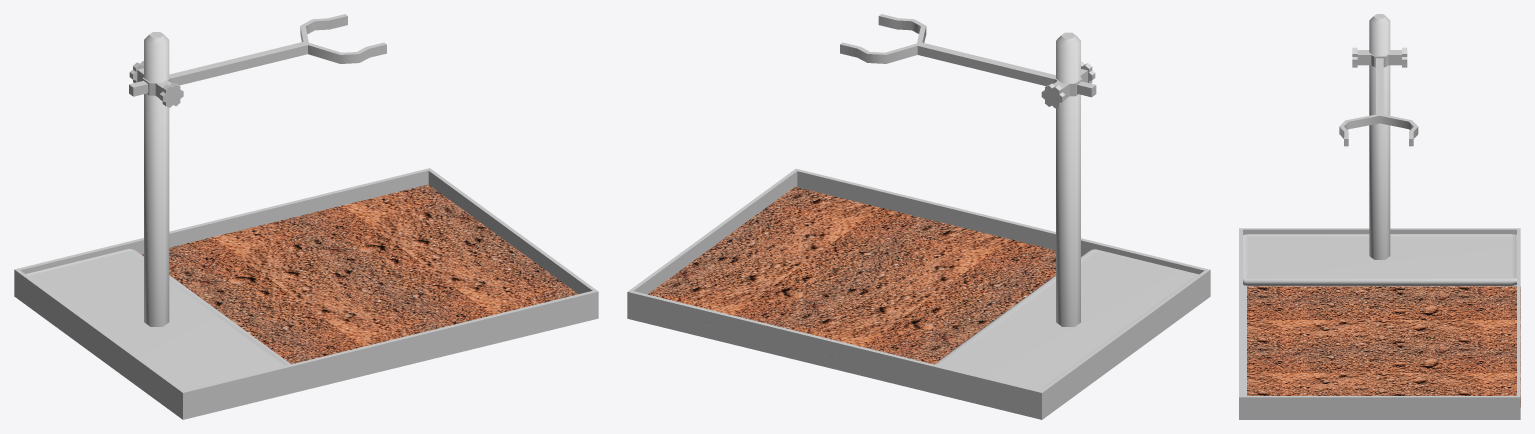
File: Sand inside square box.glb
The picture shows the model from 3 angles, left to right: view 1: azimuth 30°, elevation 25°; view 2: azimuth 150°, elevation 25°; view 3: azimuth 270°, elevation 25°; orthographic projection. The views are drawn at different scales.
Visible parts, largest first — view 1: Ani-1, Ani-2; view 2: Ani-1, Ani-2; view 3: Ani-1, Ani-2.
Part boxes in pixels (bbox=[...]): Ani-1: bbox=[14, 14, 598, 419]; Ani-2: bbox=[142, 184, 577, 364]; Ani-1: bbox=[627, 14, 1210, 419]; Ani-2: bbox=[648, 187, 1055, 364]; Ani-1: bbox=[1239, 14, 1520, 419]; Ani-2: bbox=[1247, 286, 1520, 407].
Bounding box in the file's own units: 2.84 × 2.02 × 2.
4 materials, 3 textured.
